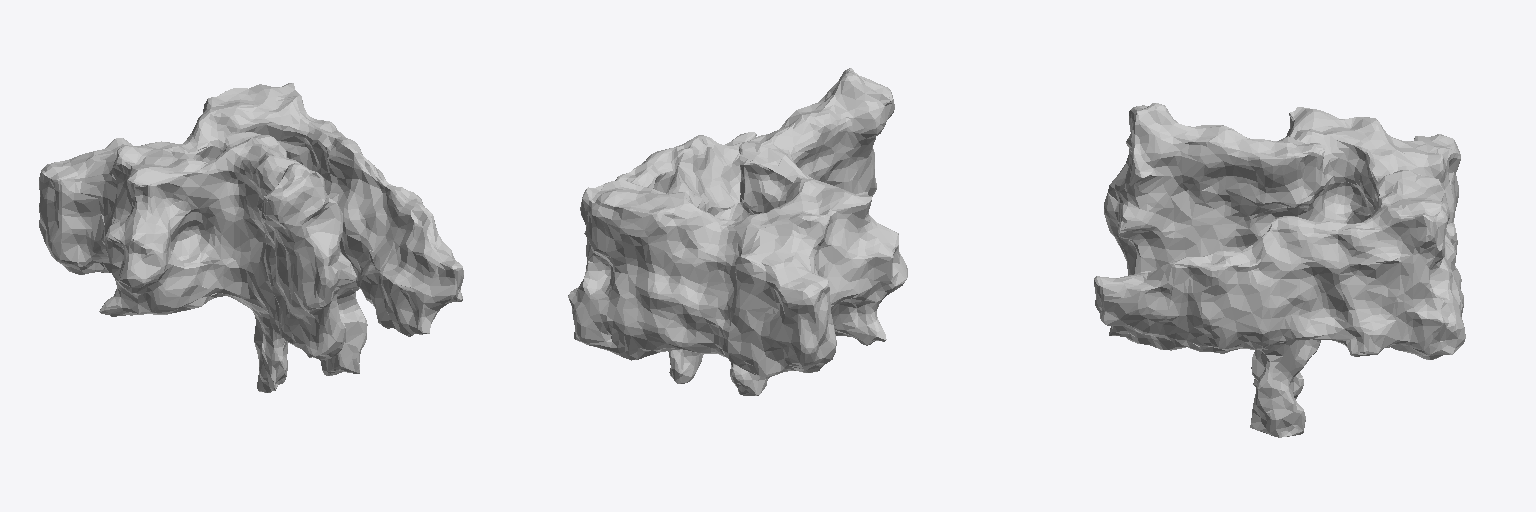
Rendered from rocks_04.obj.
3 views of the same model, side by side, from view 1: azimuth 30°, elevation 25°; view 2: azimuth 150°, elevation 25°; view 3: azimuth 270°, elevation 25° (orthographic).
Parts seen in each view (by area): view 1: rocks_04; view 2: rocks_04; view 3: rocks_04.
Part boxes in pixels (bbox=[...]): rocks_04: bbox=[39, 83, 463, 392]; rocks_04: bbox=[568, 68, 907, 395]; rocks_04: bbox=[1094, 103, 1465, 437].
Bounding box in the file's own units: 245 × 241 × 286.